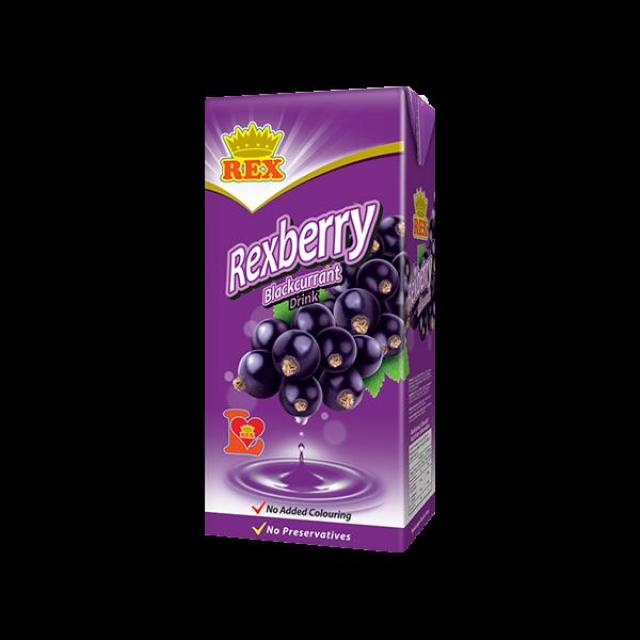drink carton: (202, 82, 440, 551)
